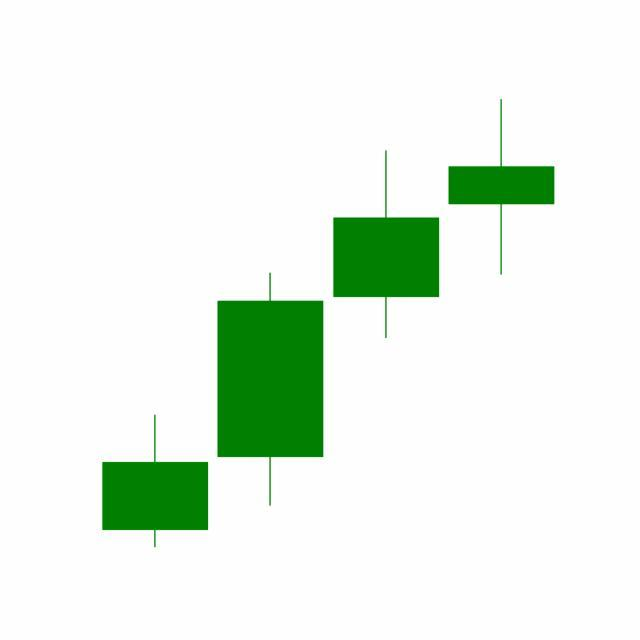Advance Block: (211, 100, 555, 512)
